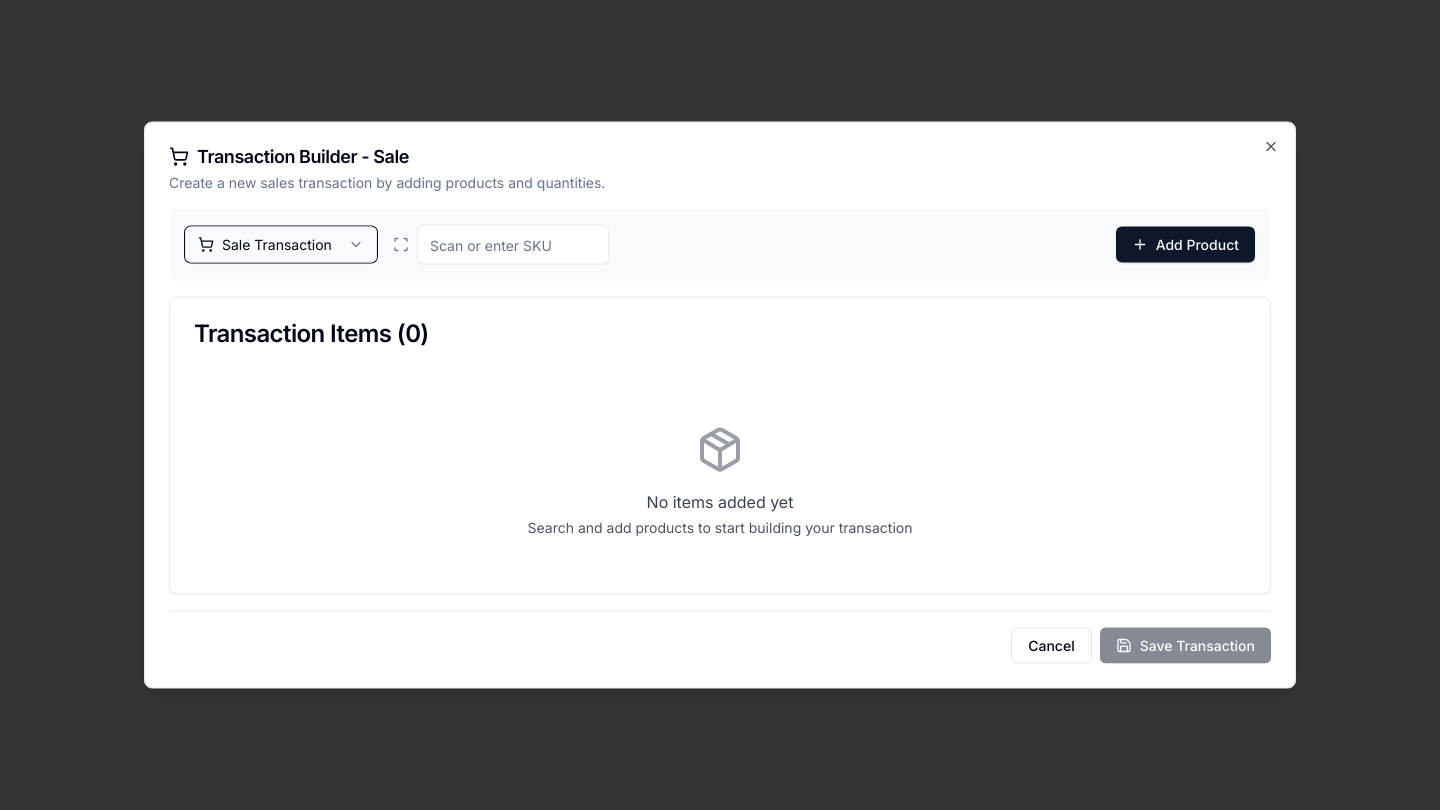
Test case: TransactionBuilder › switches to stock addition mode
Click the dropdown at (281, 244), box [185,226,377,262]
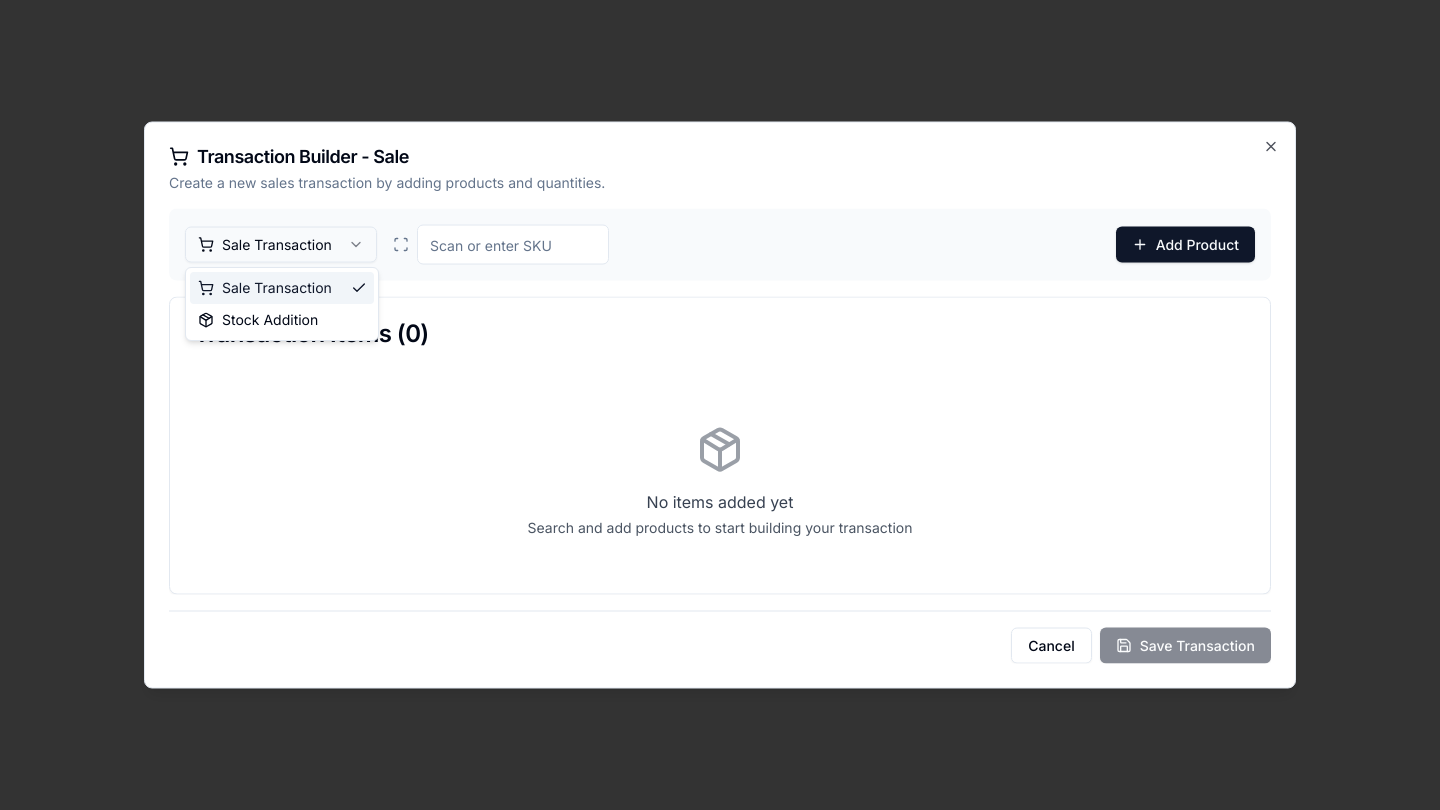
Click the option "Stock Addition" at (258, 320), box [198,311,318,328]
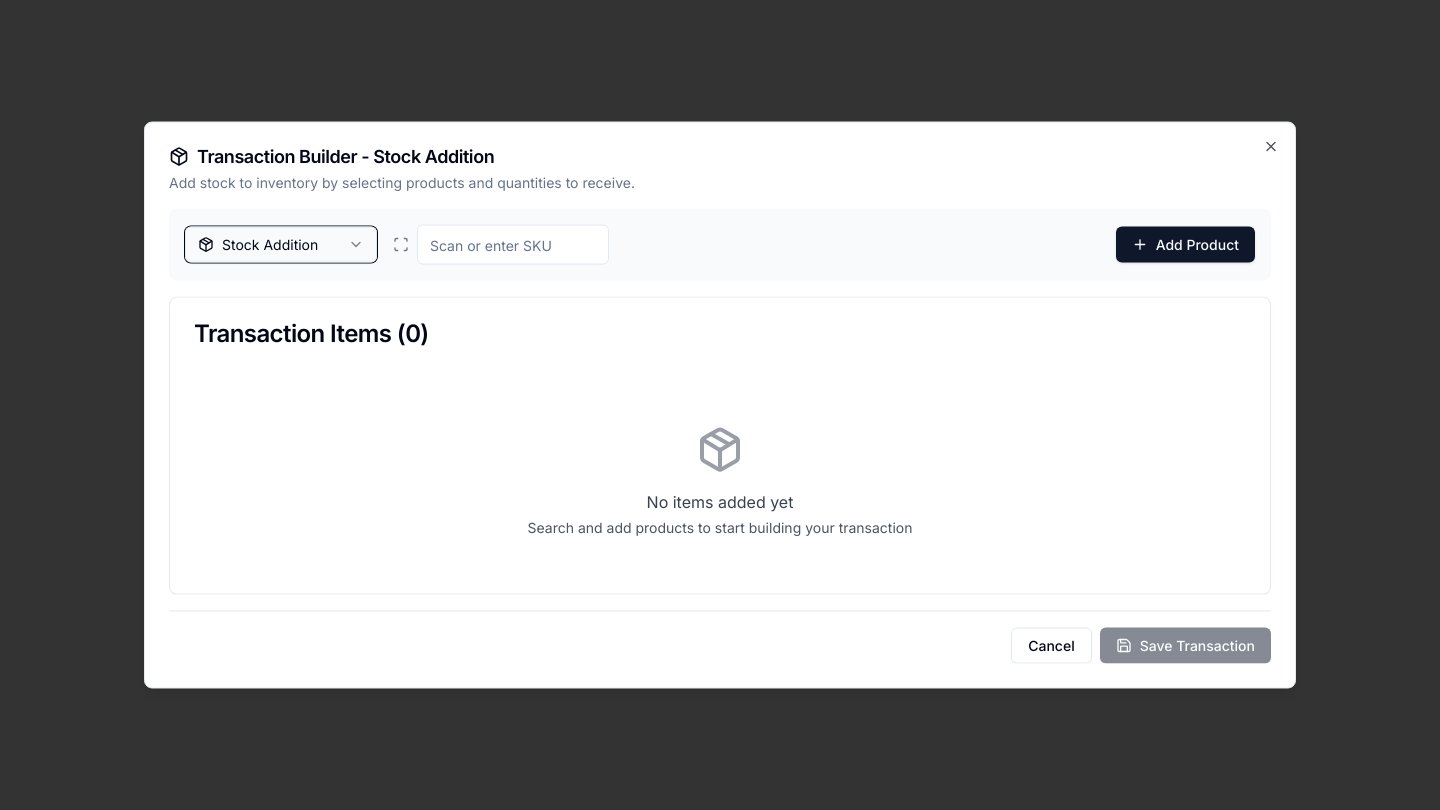
Expected: the heading "Transaction Builder - Stock Addition" is shown, [169,146,494,166]
Expected: the text "Add stock to inventory by selecting products and quantities to receive." is shown, [169,174,635,190]
